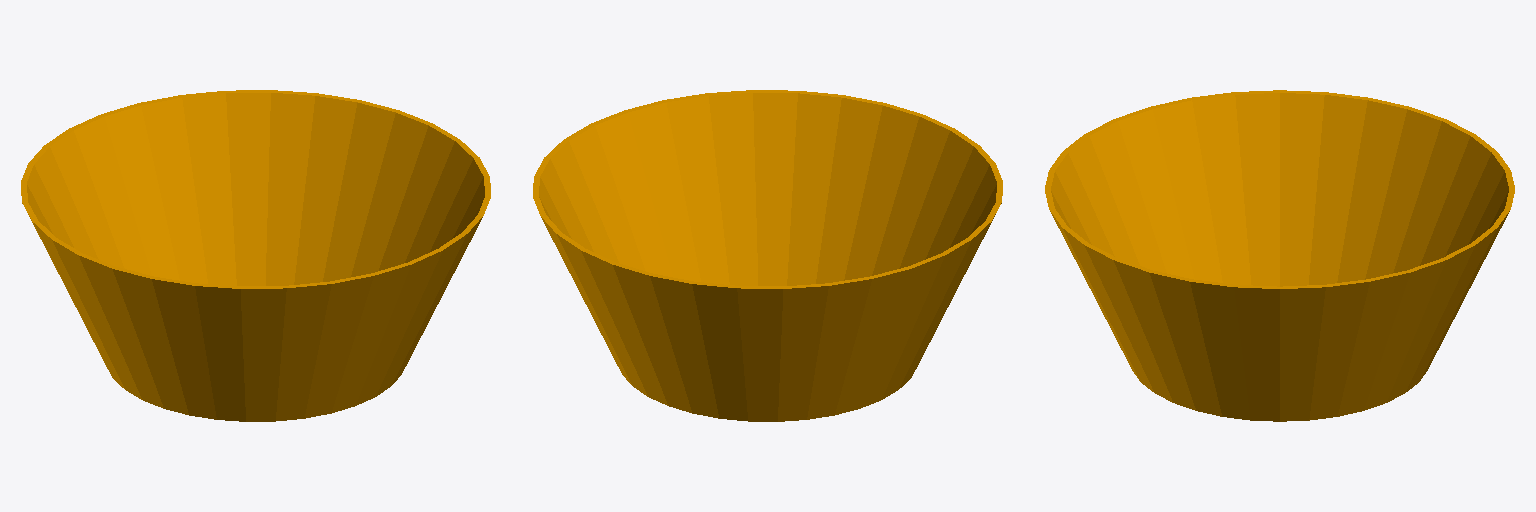
URDF robot description (bowl_small_model):
<robot name="bowl_small_model">
  <link name="bowl_small">
    <inertial>
      <mass value="0.100000" />
      <origin xyz="-0.000000 0.000000 0.022278"/>
      <inertia ixx="0.000165" ixy="0.000000" ixz="0.000000" iyy="0.000165" iyz="-0.000000" izz="0.000269" />
    </inertial>
    <visual>
      <geometry>
        <mesh filename="package://manipulation_objects/meshes/bowl_small.stl" />
      </geometry>
    </visual>
    <collision>
      <geometry>
        <mesh filename="package://manipulation_objects/meshes/bowl_small.stl" />
      </geometry>
    </collision>
  </link>
  <gazebo reference="bowl_small">
    <material>Gazebo/Grey</material>
  </gazebo>
</robot>

--- What the picture shows (computed from the rendered views, not written in the file) ---
The picture shows the robot from 3 angles, left to right: view 1: azimuth 30°, elevation 25°; view 2: azimuth 150°, elevation 25°; view 3: azimuth 270°, elevation 25°; orthographic projection.
Robot: bowl_small_model — 1 links, 0 joints (none); root link bowl_small; default pose: all joints at 0.
Links seen in each view (by area): view 1: bowl_small; view 2: bowl_small; view 3: bowl_small.
Boxes of the visible links, <box> form: bowl_small: <box>21,90,490,421</box>; bowl_small: <box>533,90,1002,421</box>; bowl_small: <box>1045,90,1514,421</box>.
Size in the robot's own frame: 0.1394 by 0.1394 by 0.055 metres.
Meshes: 1 distinct files referenced, 1 mesh visuals loaded (1 binary STL).
